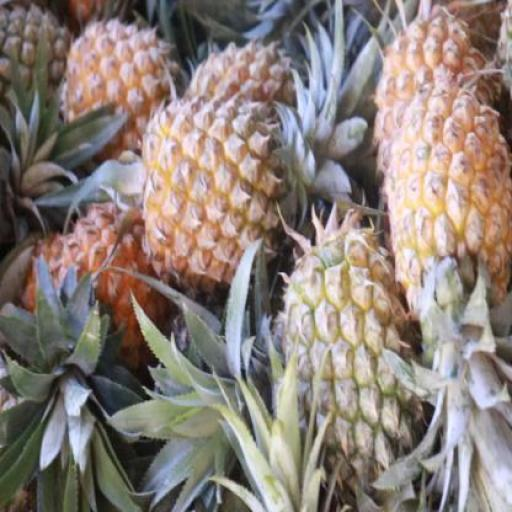------------------------------: (268, 227, 420, 486)
Pineapple - v8 v1: (390, 84, 511, 328), (144, 92, 281, 274), (26, 200, 167, 374), (58, 18, 176, 146)
